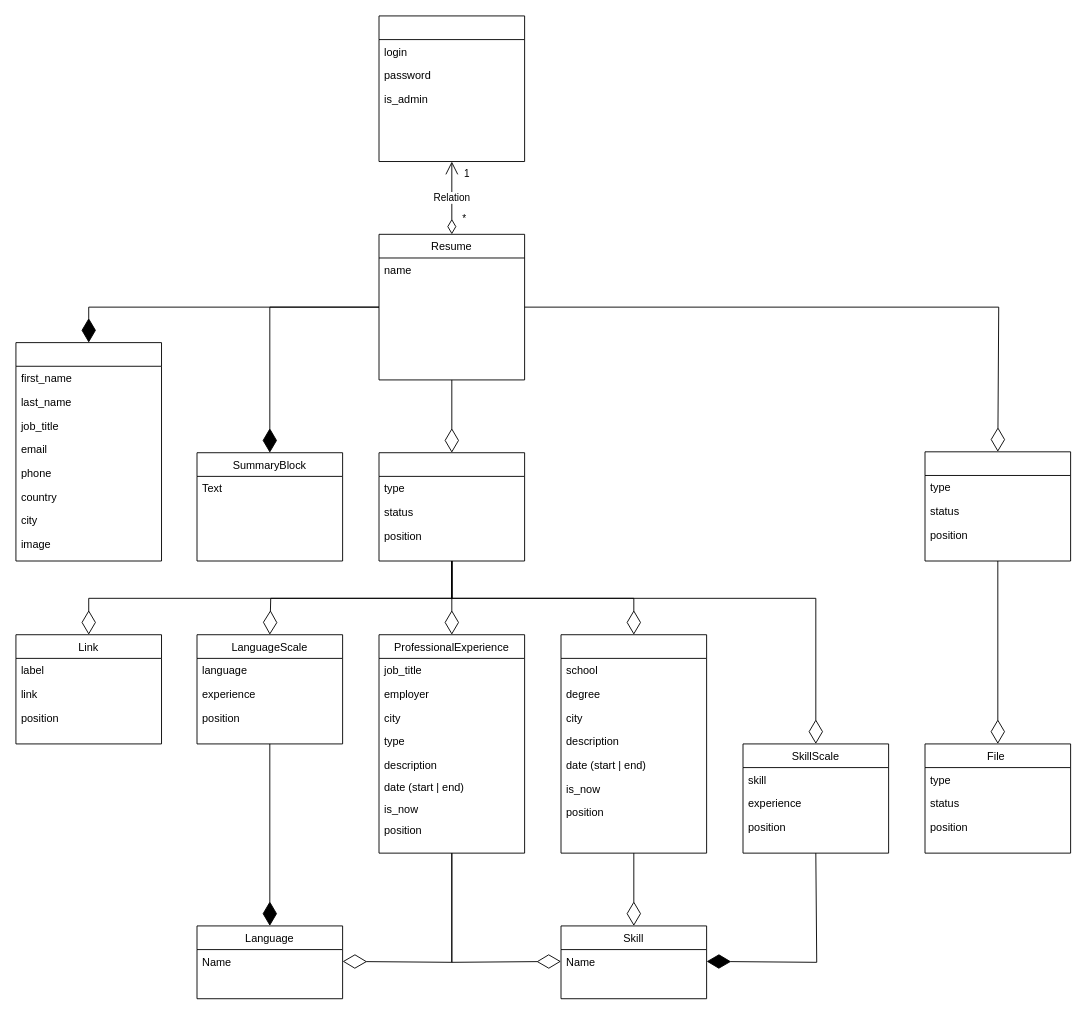
Image size: 1087x1015. Some labels were removed from this diagram. The box of each missing label's shape, as (x1, y1, x2, y2) in pixels:
DetailsBlock: (15, 342, 162, 561)
Education: (560, 634, 707, 853)
FilesBlock: (924, 451, 1071, 561)
ObjectsBlock: (378, 452, 525, 561)
User: (378, 15, 525, 162)
